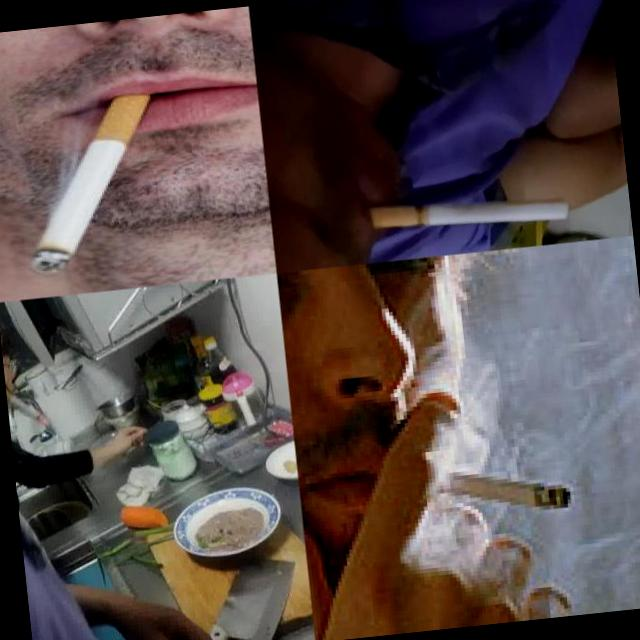smoke: (12, 88, 170, 278), (367, 184, 570, 243), (430, 451, 572, 523), (4, 370, 50, 430)
